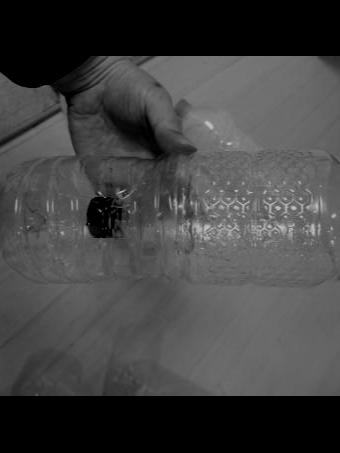bottle: (0, 149, 340, 288)
